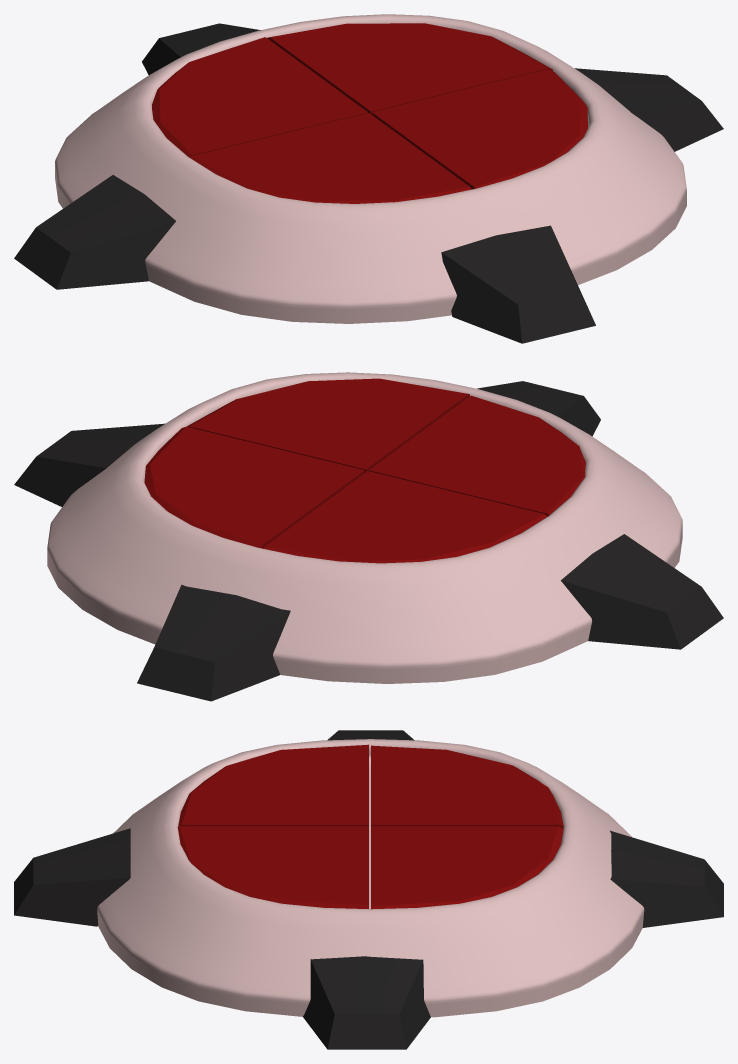
The model's file is Module_Ss_ass_por1.FBX.
3 views of the same model, one above another, from view 1: azimuth 30°, elevation 25°; view 2: azimuth 150°, elevation 25°; view 3: azimuth 270°, elevation 25° (orthographic). The views are drawn at different scales.
Visible parts, largest first — view 1: Module_Ss_ass_por1 (×2); view 2: Module_Ss_ass_por1 (×2); view 3: Module_Ss_ass_por1 (×2).
Part boxes in pixels (<box>): Module_Ss_ass_por1 (×2): <box>14,14,723,343</box>; Module_Ss_ass_por1 (×2): <box>14,372,723,701</box>; Module_Ss_ass_por1 (×2): <box>14,730,723,1049</box>.
Size of the model in its own units: 36.55 by 4.29 by 36.55.
